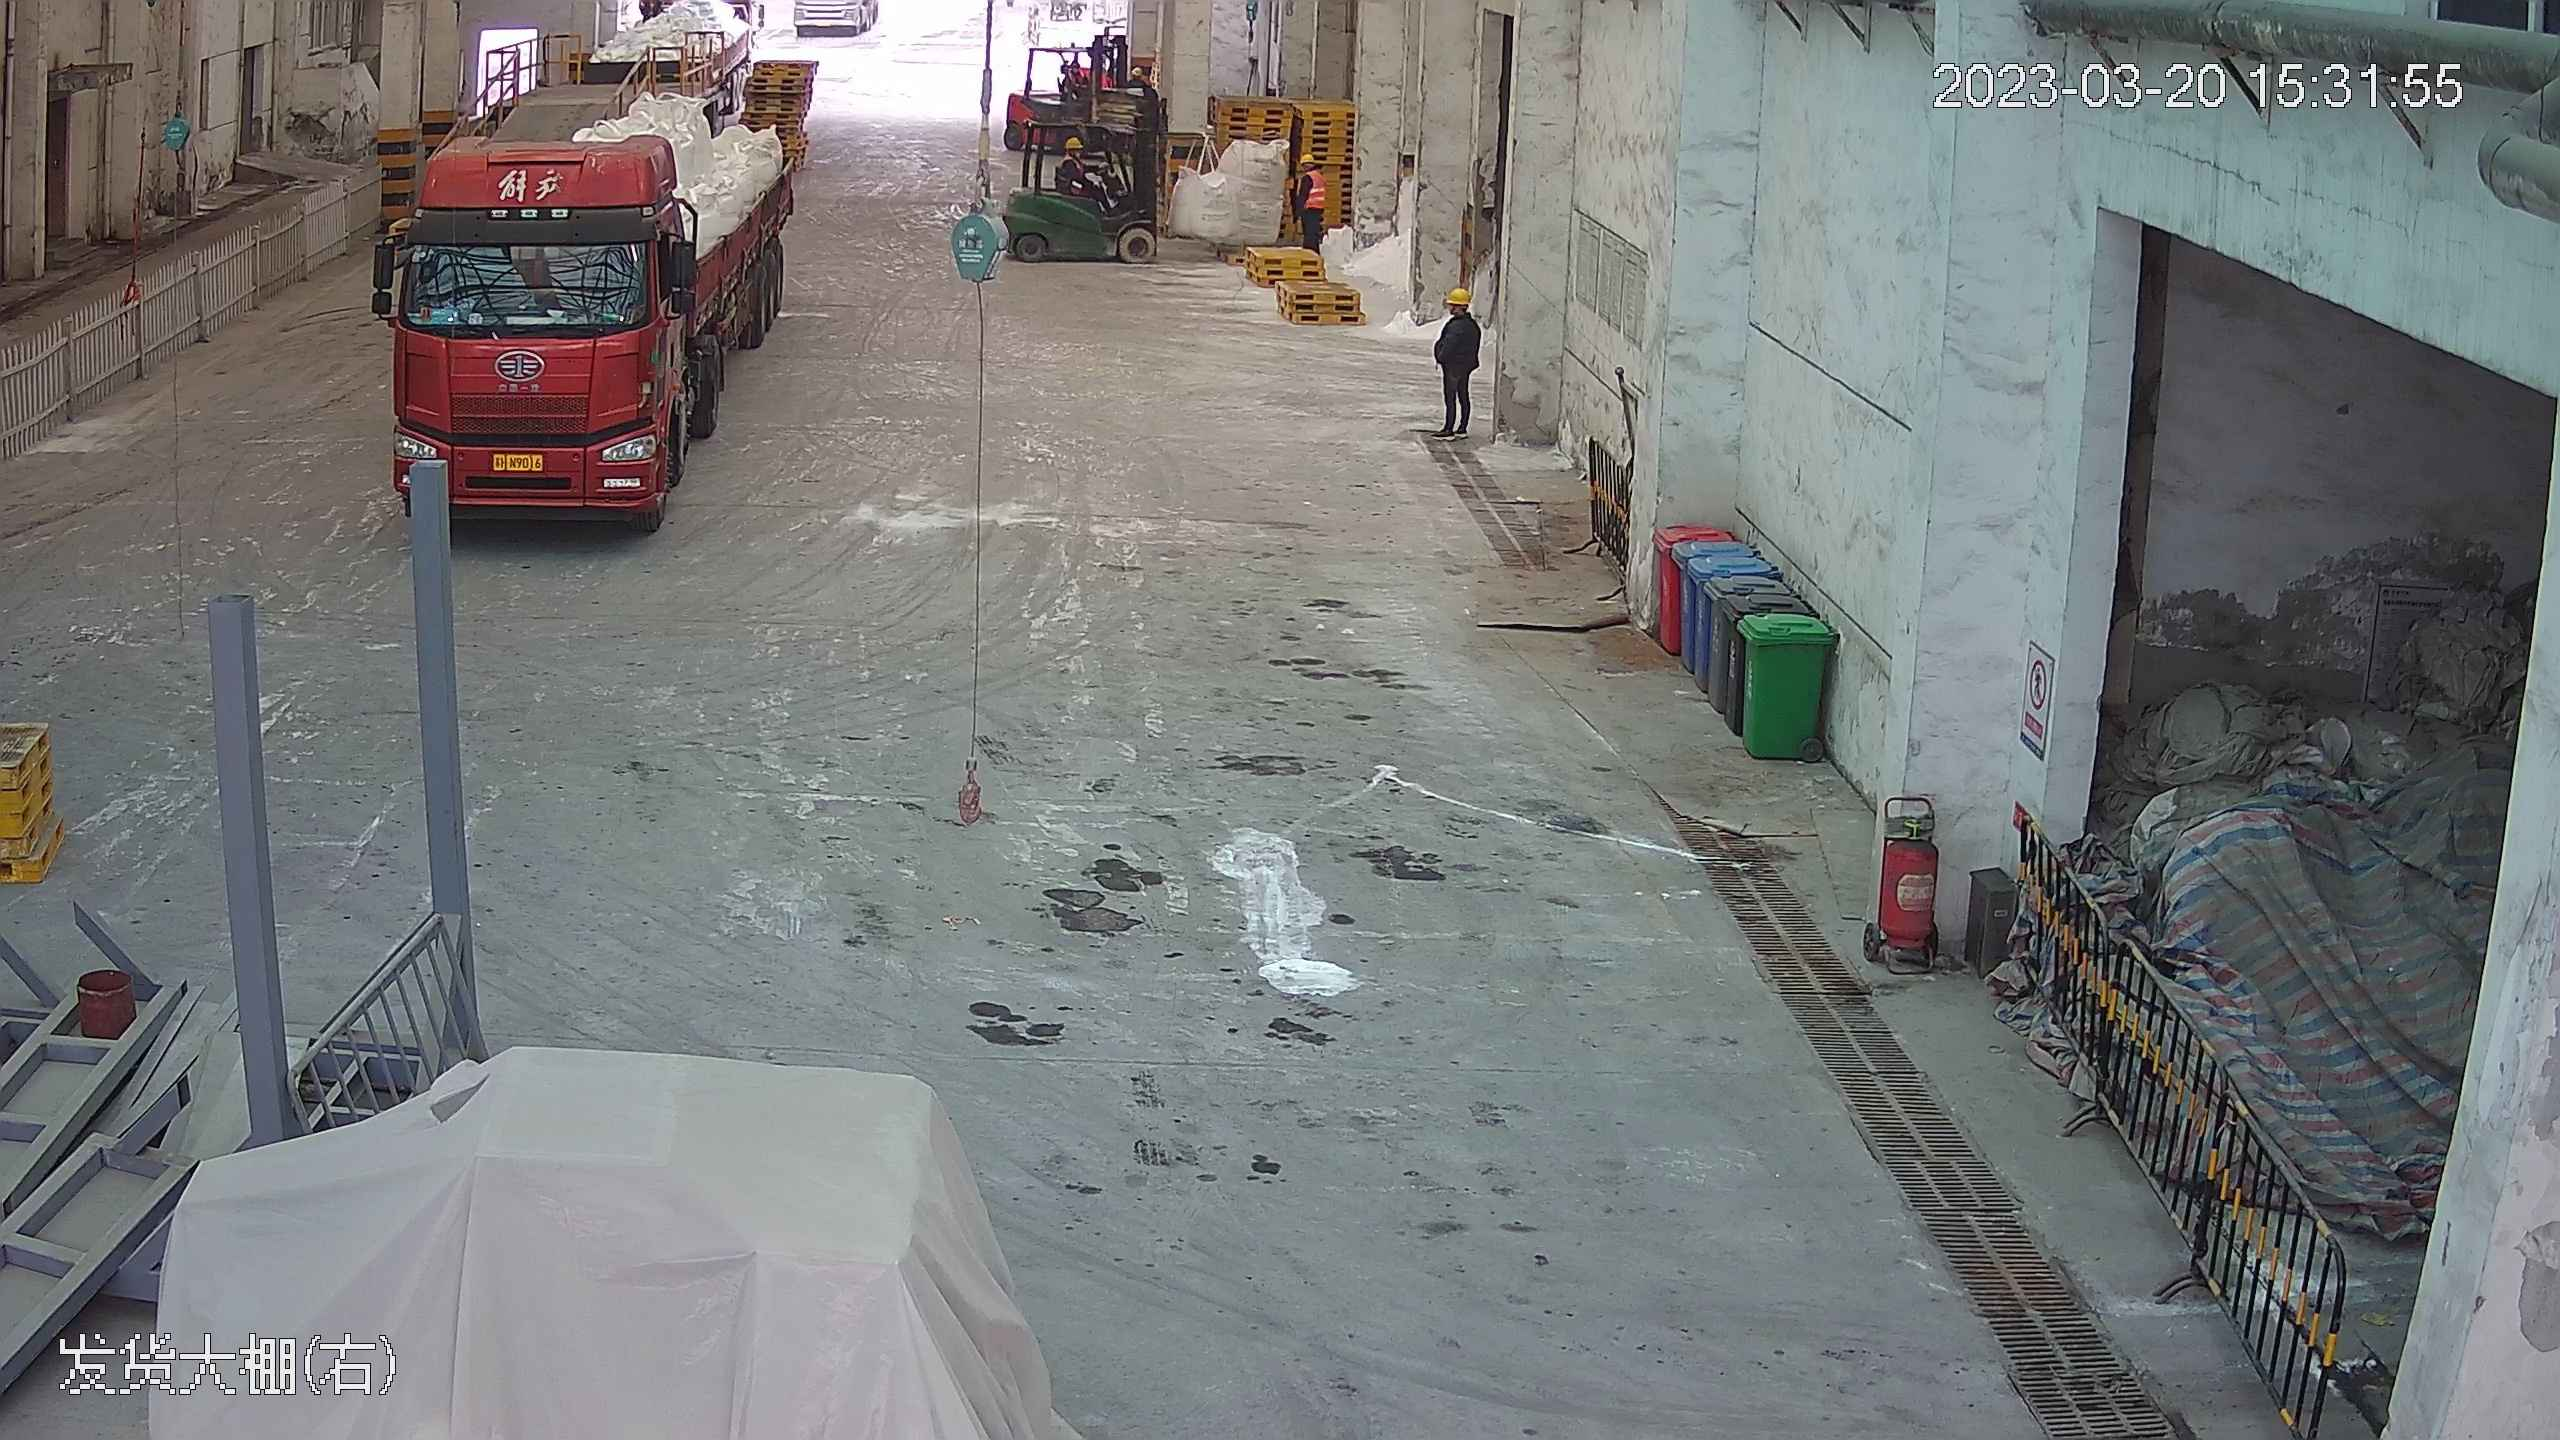head: (1436, 282, 1480, 338), (1054, 131, 1096, 176)
helmet: (1447, 283, 1473, 307), (1064, 136, 1084, 150), (1131, 68, 1142, 77)
people: (1428, 282, 1484, 439), (1054, 133, 1117, 214)
truck: (371, 33, 809, 528)
